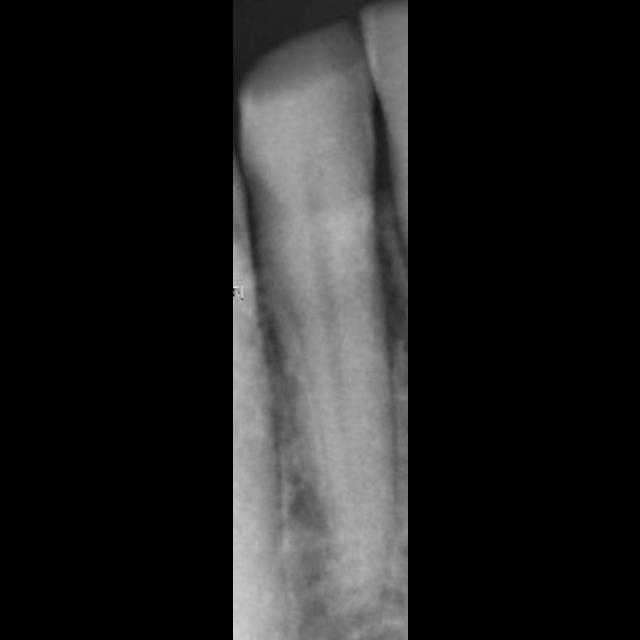tooth: (240, 27, 389, 588)
